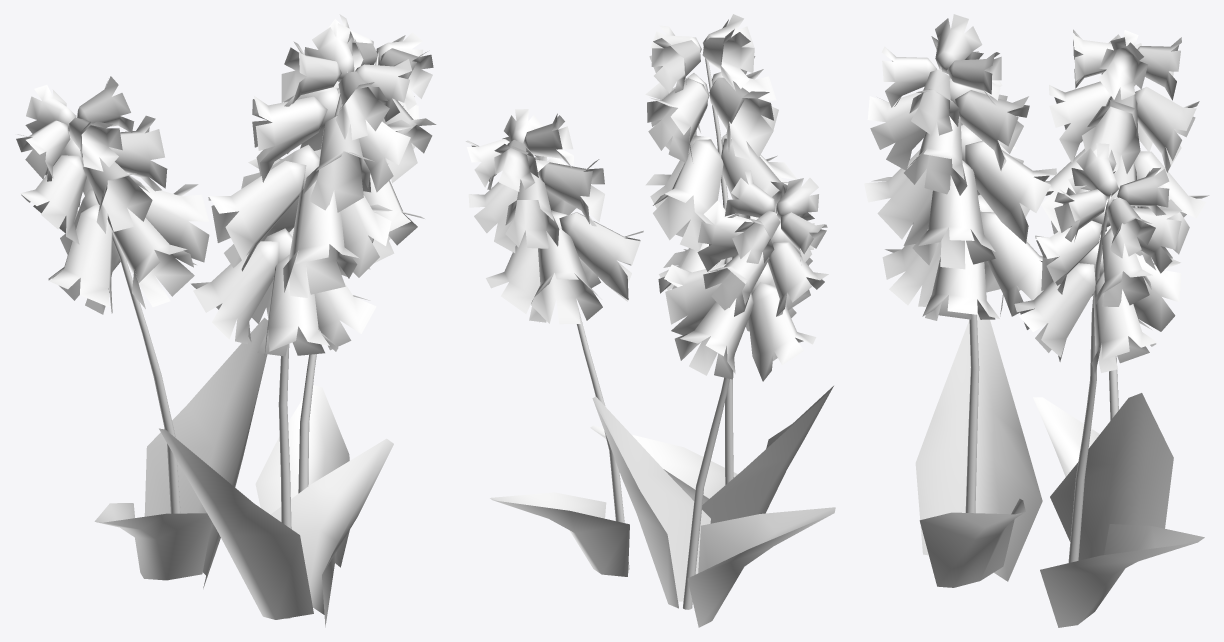
The model's file is plant_4.glb.
3 views of the same model, side by side, from view 1: azimuth 30°, elevation 25°; view 2: azimuth 150°, elevation 25°; view 3: azimuth 270°, elevation 25° (orthographic). The views are drawn at different scales.
Visible parts, largest first — view 1: Flower_4_Group; view 2: Flower_4_Group; view 3: Flower_4_Group.
Part boxes in pixels (x1=…): Flower_4_Group: x1=16, y1=14, x2=436, y2=627; Flower_4_Group: x1=465, y1=14, x2=835, y2=627; Flower_4_Group: x1=864, y1=14, x2=1209, y2=627.
Bounding box in the file's own units: 1.78 × 2.49 × 1.37.
Materials: 2 (2 with a texture image).
